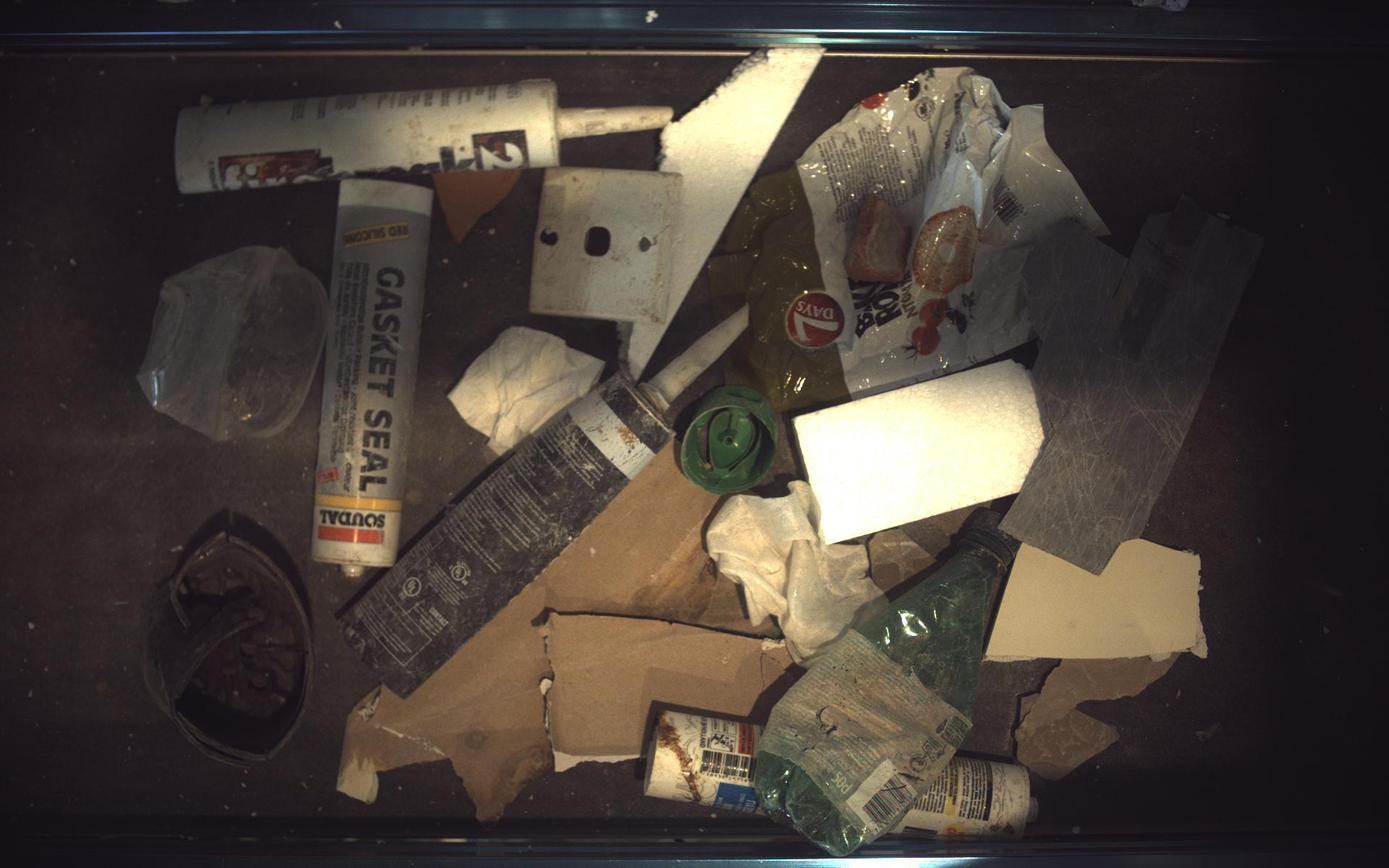brick: (432, 168, 521, 243), (848, 192, 909, 282)
foam: (622, 46, 825, 380), (794, 360, 1047, 544)
general_w: (710, 66, 1110, 412), (755, 509, 1021, 858), (143, 511, 312, 765), (137, 245, 328, 441), (708, 481, 882, 663), (449, 326, 605, 455), (681, 386, 778, 495)
gypsum_board: (338, 441, 781, 822), (987, 540, 1210, 741), (546, 614, 786, 770)
plastic: (341, 307, 749, 699), (1008, 196, 1266, 574), (174, 78, 674, 192), (310, 179, 433, 569), (530, 166, 682, 321), (645, 703, 763, 814), (896, 757, 1034, 839)
tile: (1021, 694, 1121, 781), (870, 529, 936, 592)
